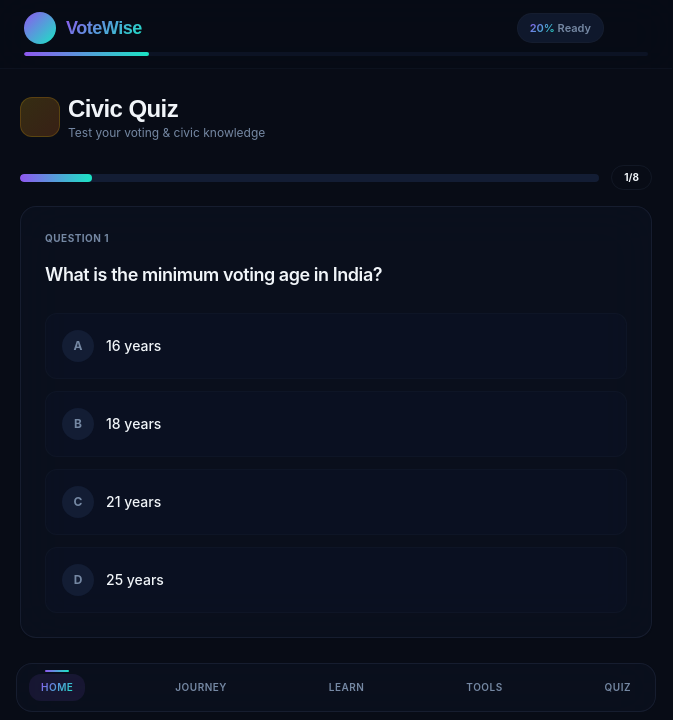
Test: QuizPage › should show explanation after selecting an answer
Click the text "18 years": click(134, 424) [106, 414, 161, 434]
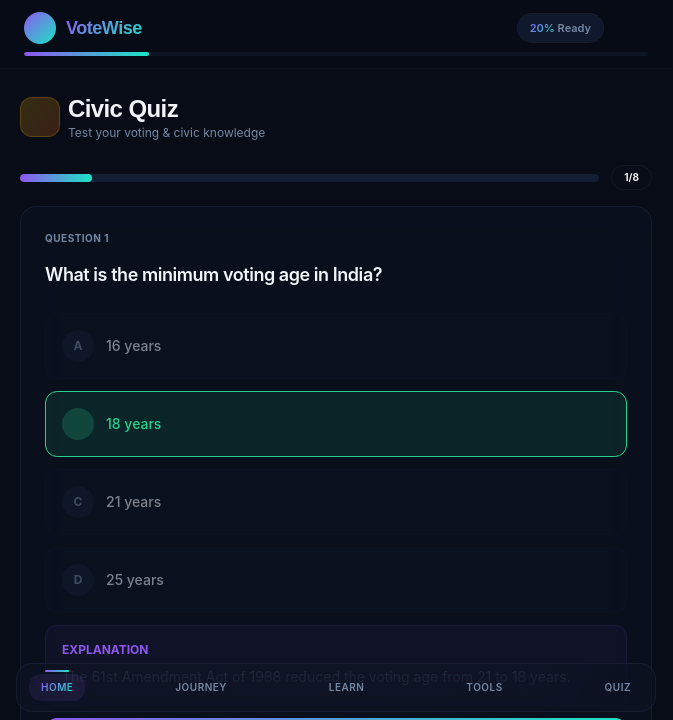
Check: the text "61st Amendment" is shown, box [62, 668, 571, 685]
